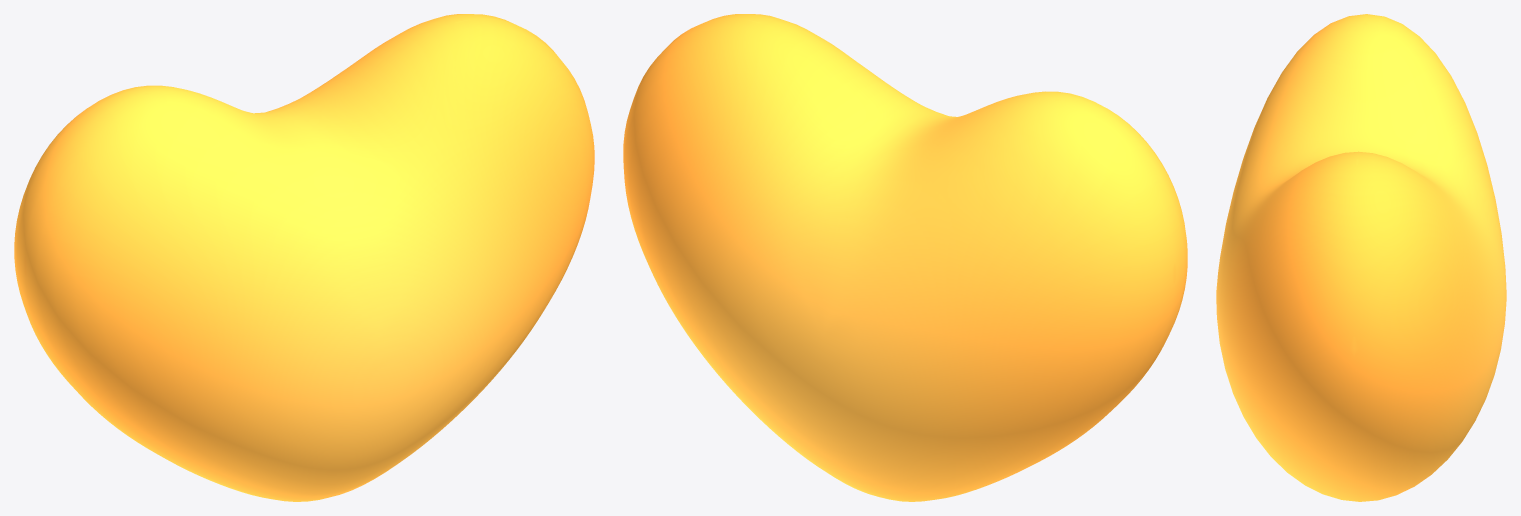
Rendered from heart-rounded-v24-yellow.glb.
3 renders of one model, left to right at view 1: azimuth 30°, elevation 25°; view 2: azimuth 150°, elevation 25°; view 3: azimuth 270°, elevation 25°, orthographic. The views are drawn at different scales.
Parts seen in each view (by area): view 1: Heart_Glass; view 2: Heart_Glass; view 3: Heart_Glass.
Boxes of the visible parts, x1,y1,x2,y2 form: Heart_Glass: [14, 14, 594, 501]; Heart_Glass: [623, 14, 1187, 501]; Heart_Glass: [1216, 14, 1506, 501].
Size of the model in its own units: 0.0832 by 0.0628 by 0.0416.
Materials: 1 (1 with a texture image).
